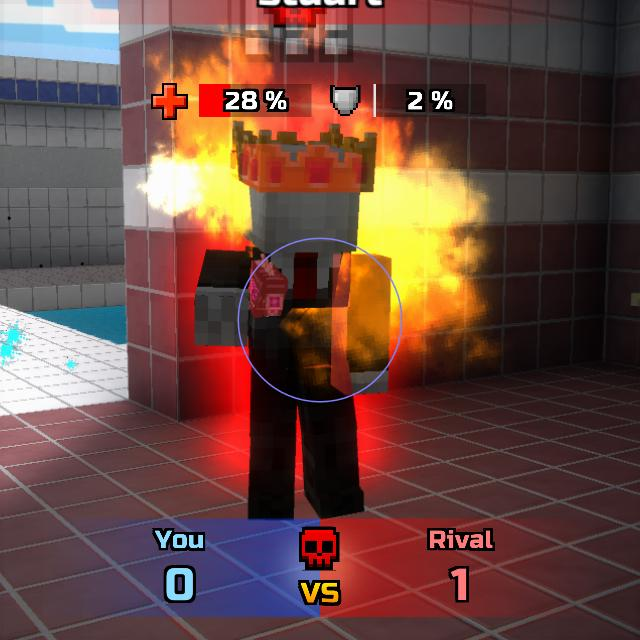Enemy: (194, 146, 393, 520)
